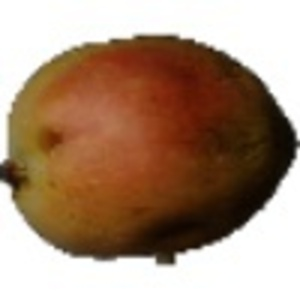mamão: (8, 31, 297, 256)
